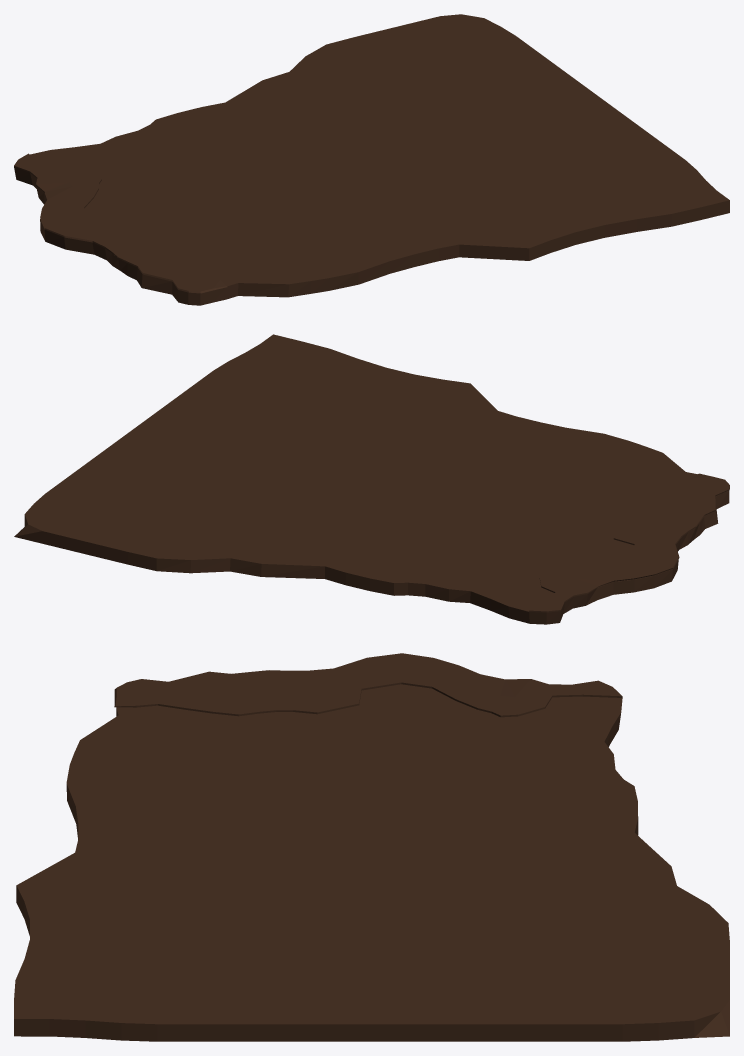
Rendered from BeachBase.fbx.
3 views of the same model, one above another, from view 1: azimuth 30°, elevation 25°; view 2: azimuth 150°, elevation 25°; view 3: azimuth 270°, elevation 25° (orthographic). The views are drawn at different scales.
Visible parts, largest first — view 1: pCube34; view 2: pCube34; view 3: pCube34.
Boxes of the visible parts, box(x1,y1,x2,y2) form: pCube34: box(14, 14, 729, 305); pCube34: box(14, 334, 729, 624); pCube34: box(14, 653, 729, 1041).
Bounding box in the file's own units: 46.65 × 1.14 × 38.23.
